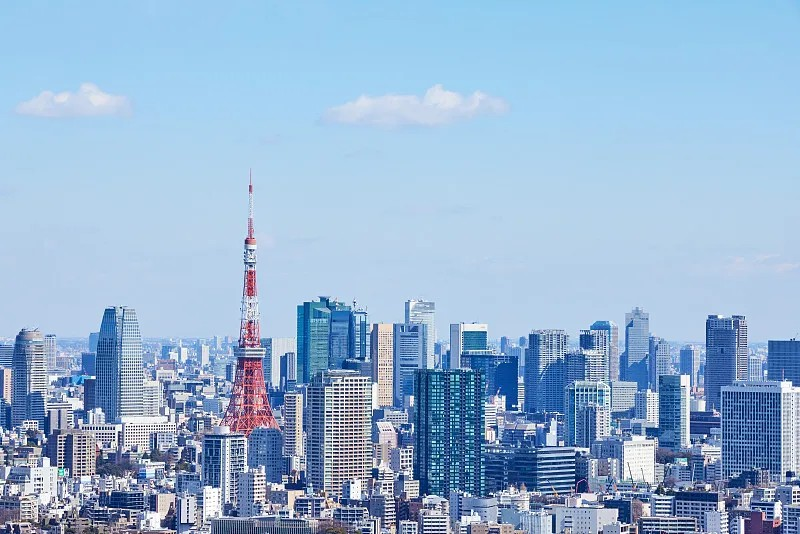Tokyo: (217, 165, 286, 439)
